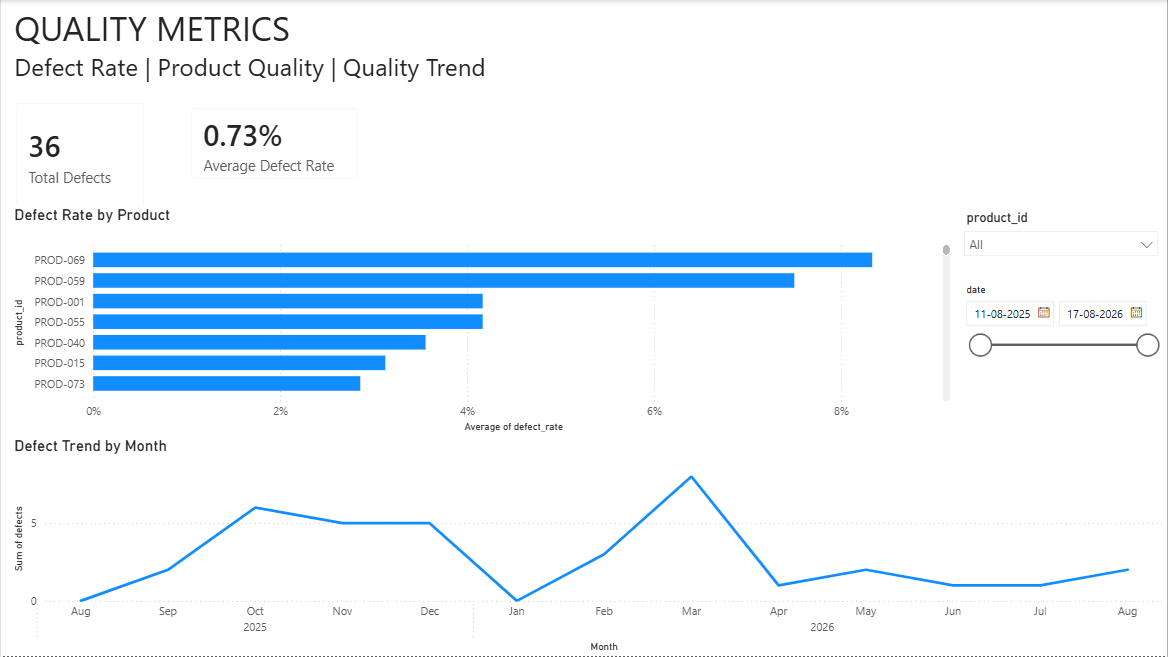

What the dashboard file says about the page in this screenshot:
{"tool":"powerbi","page":{"name":"Quality Metrics","canvas":[1280,720],"ordinal":2},"visuals":[{"type":"textbox","box":[9.6,0,1270.7,96.1],"z":0},{"type":"cardVisual","fields":{"Data":["Sum(public fact_production_kpis.defects)"]},"box":[0,96.1,174.3,149.6],"z":1000},{"type":"clusteredBarChart","title":"Defect Rate by Product ","fields":{"Category":["public dim_product.product_id"],"Y":["Avg(public fact_production_kpis.defect_rate)"]},"box":[9.6,225,1037.4,253.9],"z":2000},{"type":"cardVisual","fields":{"Data":["Avg(public fact_production_kpis.defect_rate)"]},"box":[192.1,101.5,216.8,112.5],"z":3000},{"type":"lineChart","title":"Defect Trend by Month","fields":{"Y":["Sum(public fact_production_kpis.defects)"],"Category":["public dim_time.year","public dim_time.Month name"]},"box":[9.6,478.9,1270.7,241.5],"z":4000},{"type":"slicer","fields":{"Values":["public dim_product.product_id"]},"box":[1047,225,233.3,81],"z":5000},{"type":"slicer","fields":{"Values":["public dim_time.date"]},"box":[1047,306,233.3,87.8],"z":6000}]}

Visuals, with their boxes in screenshot pixels (x1, y1, x2, y2), scaled from the page's 1280x720 canvas onto the 1168x657 screenshot:
textbox: left=9, top=0, right=1167, bottom=88
cardVisual - Sum(public fact_production_kpis.defects): left=0, top=88, right=159, bottom=224
"Defect Rate by Product " clusteredBarChart: left=9, top=205, right=955, bottom=437
cardVisual - Avg(public fact_production_kpis.defect_rate): left=175, top=93, right=373, bottom=195
"Defect Trend by Month" lineChart: left=9, top=437, right=1167, bottom=656
slicer - public dim_product.product_id: left=955, top=205, right=1167, bottom=279
slicer - public dim_time.date: left=955, top=279, right=1167, bottom=359
